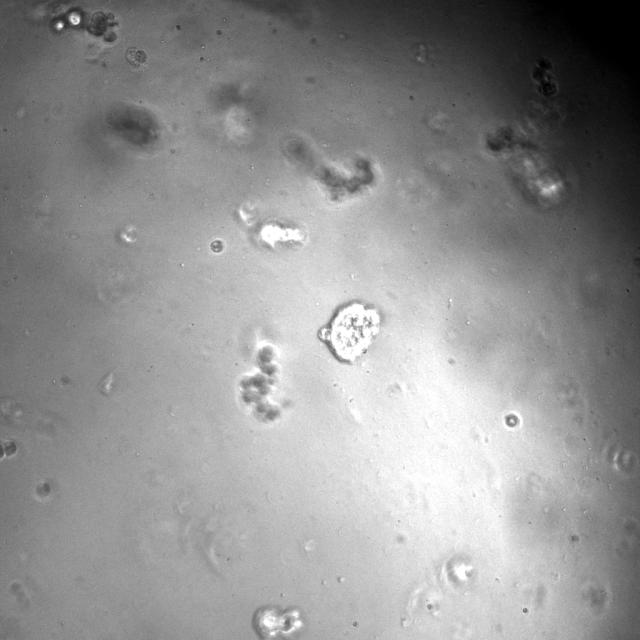organoid: (486, 125, 579, 207), (281, 136, 374, 200), (29, 0, 118, 43), (239, 341, 286, 422), (319, 302, 380, 363), (235, 203, 308, 251), (523, 57, 564, 127), (252, 606, 304, 639), (126, 46, 146, 67), (0, 440, 16, 459), (36, 480, 51, 497), (504, 412, 519, 427), (210, 239, 223, 252)
